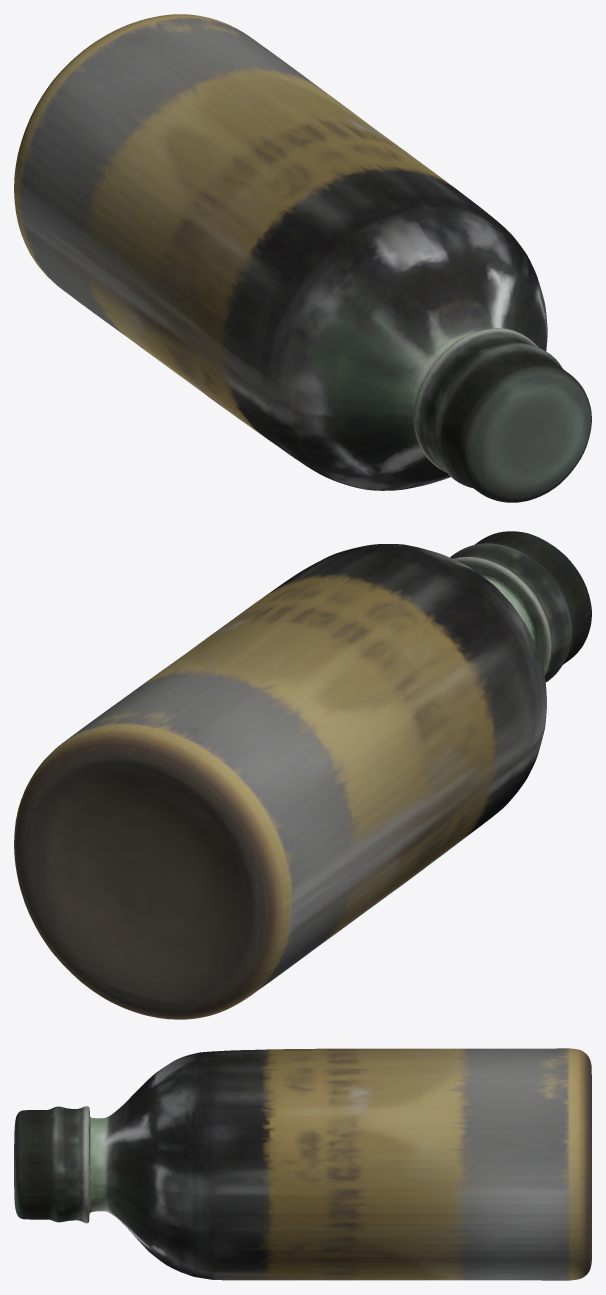
The picture shows the model from 3 angles, top to bottom: view 1: azimuth 30°, elevation 25°; view 2: azimuth 150°, elevation 25°; view 3: azimuth 270°, elevation 25°; orthographic projection. The views are drawn at different scales.
Visible parts, largest first — view 1: world; view 2: world; view 3: world.
Part boxes in pixels (left/top/right/bottom): world: left=14, top=14, right=591, bottom=502; world: left=14, top=531, right=591, bottom=1019; world: left=14, top=1048, right=591, bottom=1280.
Bounding box in the file's own units: 0.0749 × 0.0747 × 0.1859.
